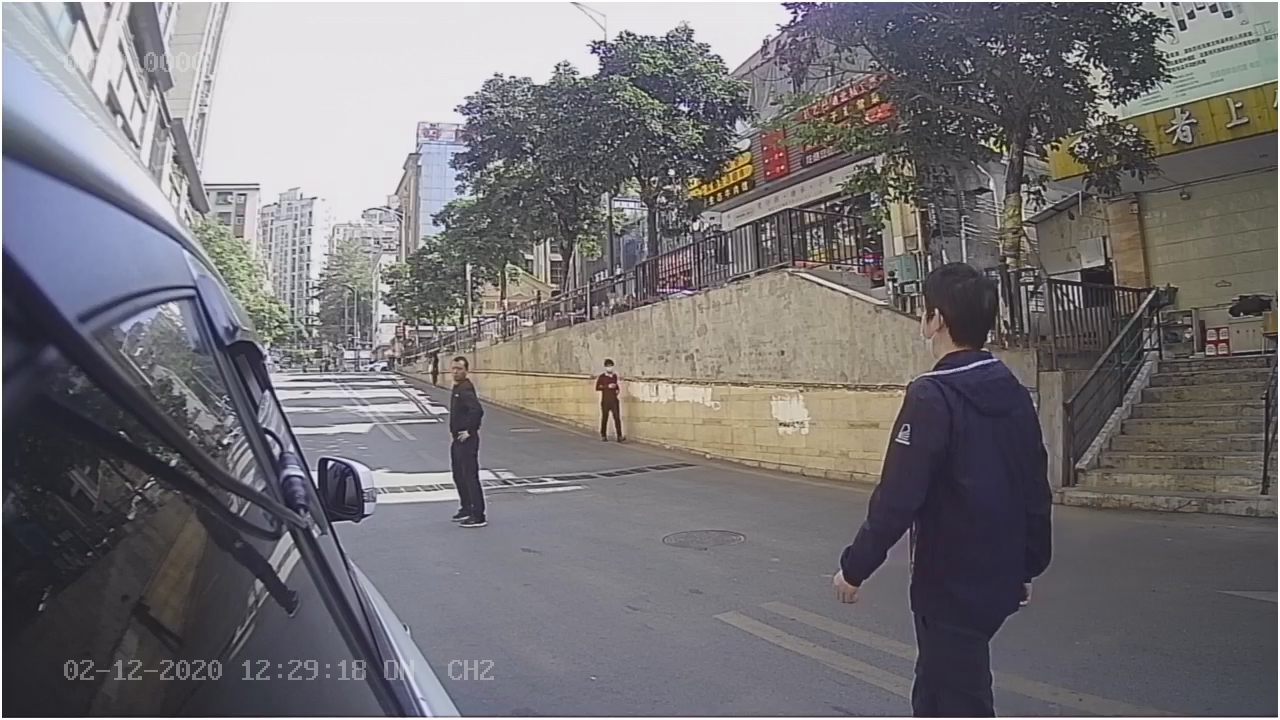person: (833, 255, 1056, 612), (426, 348, 512, 538)
